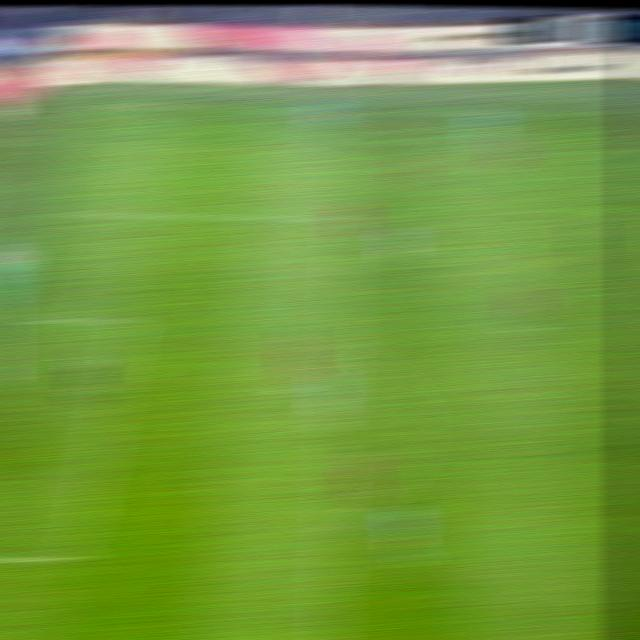bigarea_top_outter: (44, 206, 71, 219)
bottom_arc_area_intersection: (320, 520, 349, 540)
corner: (77, 99, 114, 112)
smallarea_bottom_inner: (57, 542, 92, 571)
smallarea_top_inner: (116, 314, 143, 330)
smallarea_top_outter: (7, 311, 36, 326), (332, 213, 356, 225)
top_arc_area_intersection: (325, 338, 357, 354)
